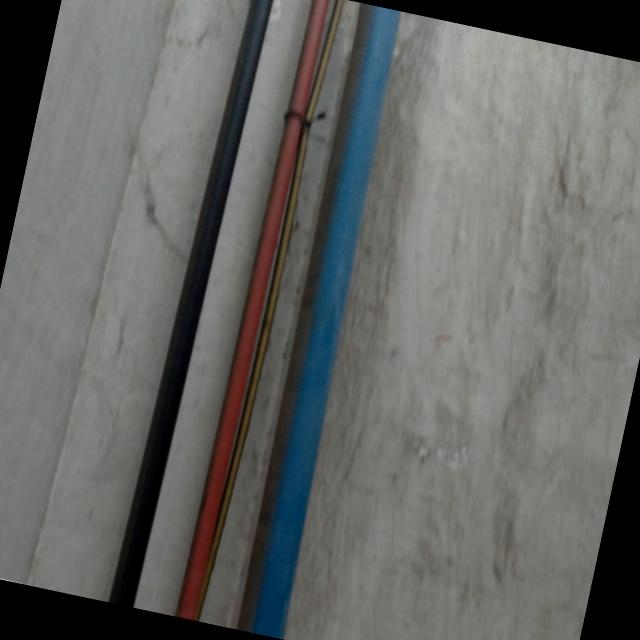gas: (225, 1, 421, 640), (109, 0, 277, 609), (173, 0, 330, 621)
